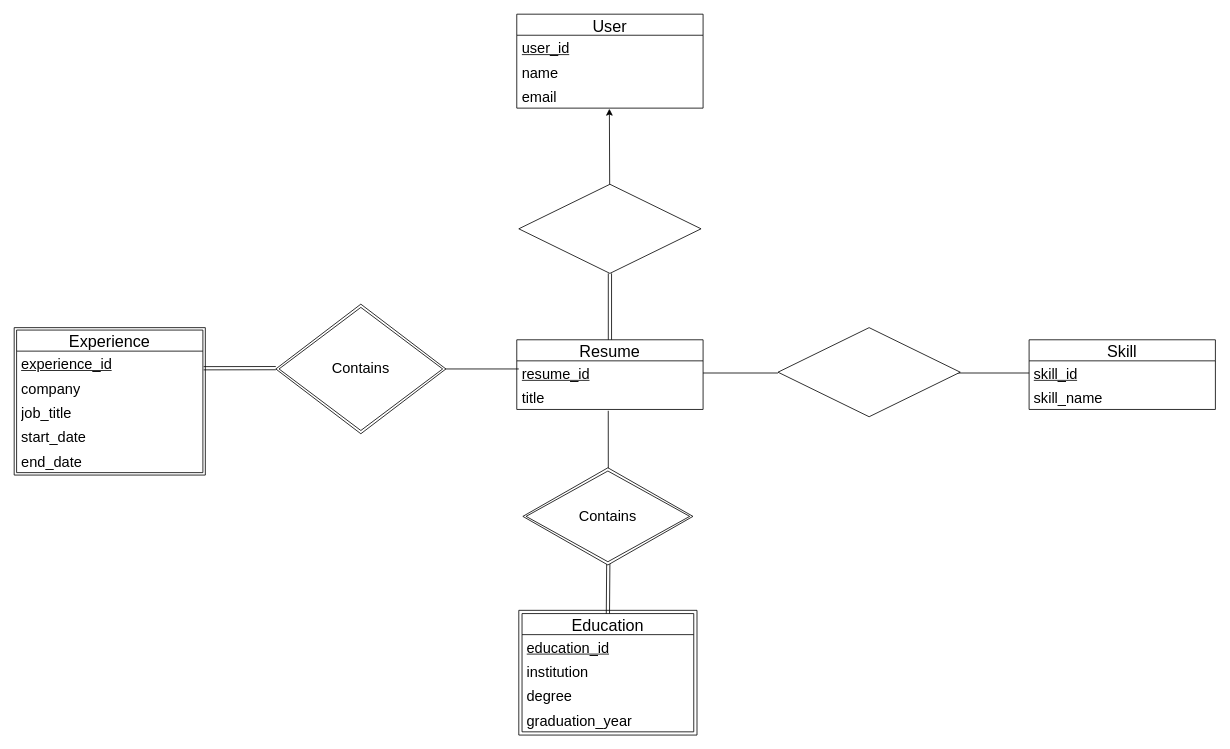
Some shapes in this 1230 by 749 pixel diagram are drawn without their labels. Here are the shapes that lost their labels. From the top down, the box of each, then its label:
(518, 183, 701, 273): Create
(777, 327, 960, 417): Resume_Skill
